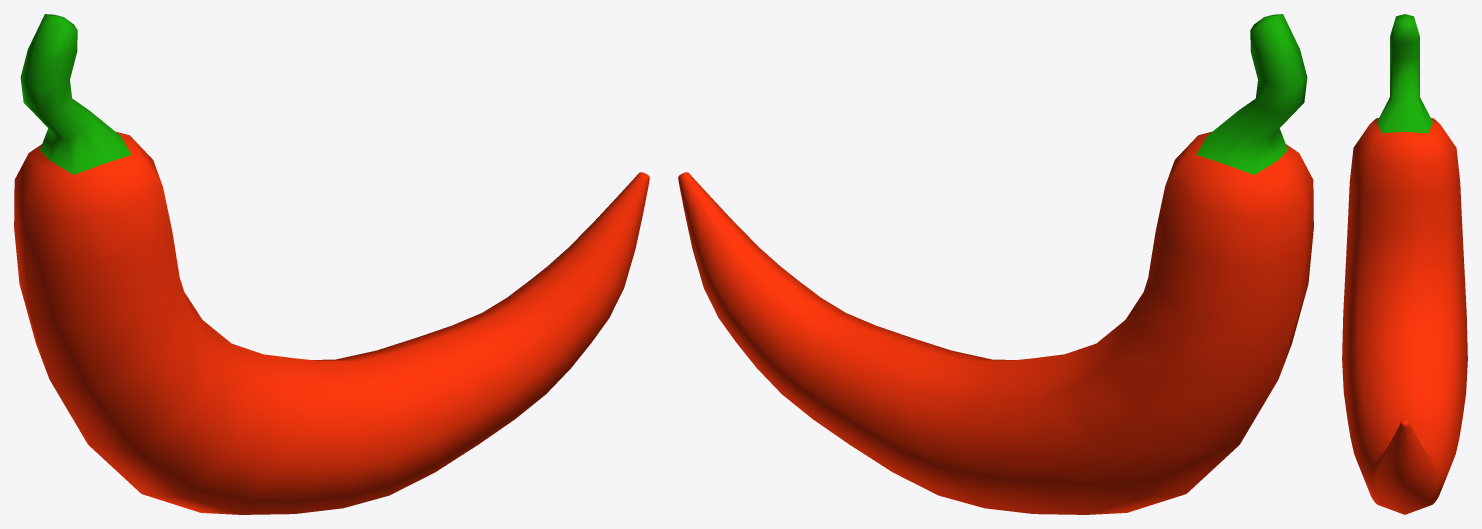
Rendered from sdjj.fbx.
The picture shows the model from 3 angles, left to right: view 1: azimuth 30°, elevation 25°; view 2: azimuth 150°, elevation 25°; view 3: azimuth 270°, elevation 25°; orthographic projection. The views are drawn at different scales.
Visible parts, largest first — view 1: Куб; view 2: Куб; view 3: Куб.
Boxes of the visible parts, bbox=[...] form: Куб: bbox=[14, 14, 649, 514]; Куб: bbox=[678, 14, 1313, 514]; Куб: bbox=[1342, 14, 1467, 514].
Bounding box in the file's own units: 454 × 385 × 115.
